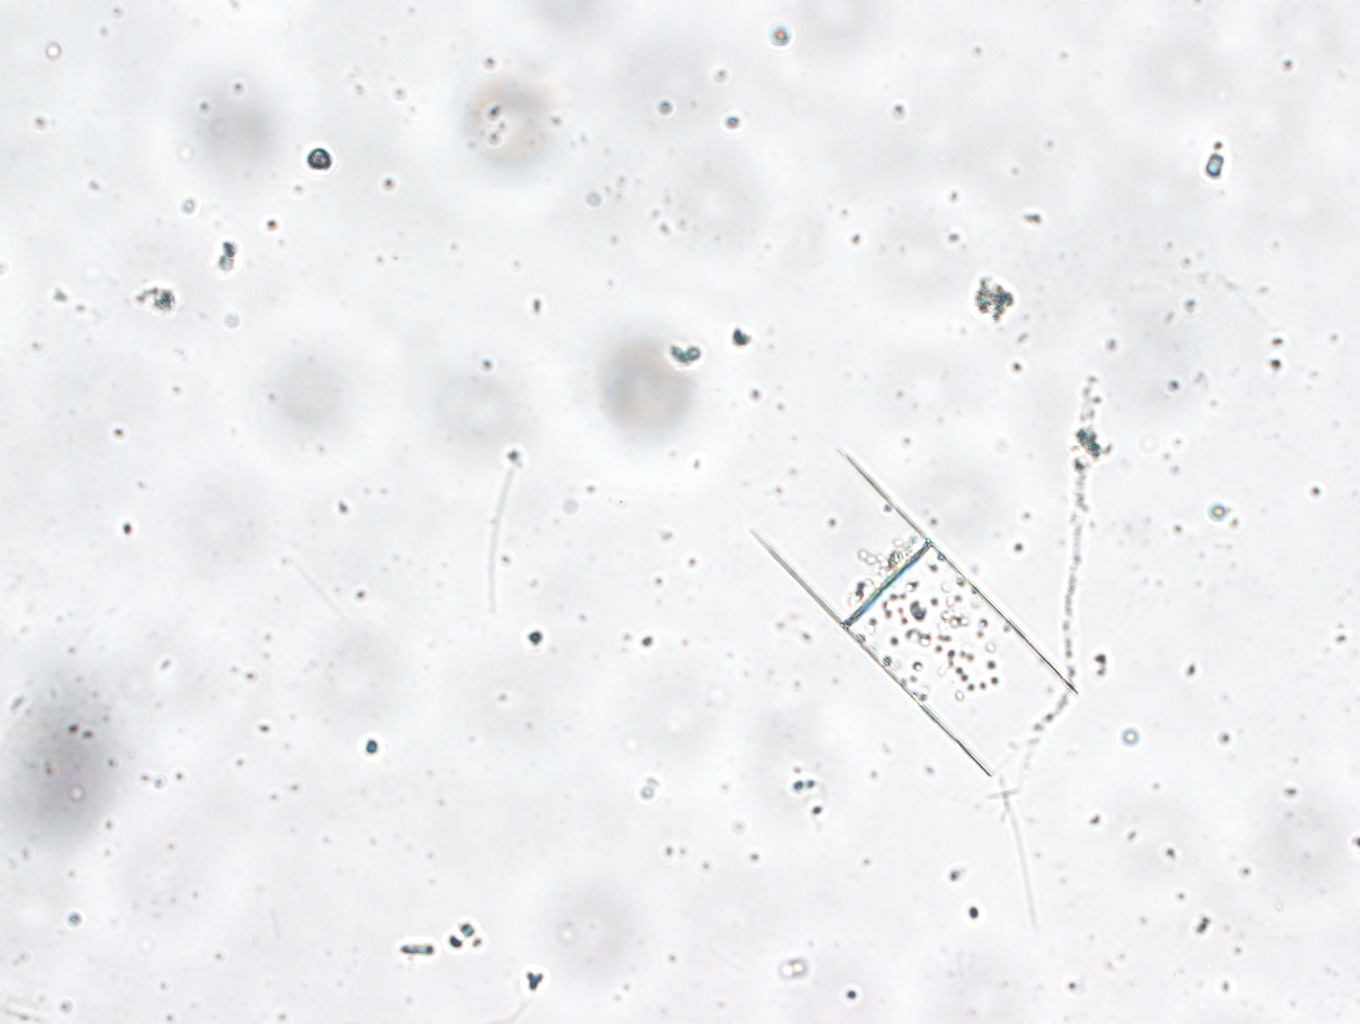guinardia flaccida: (745, 442, 1092, 786)
